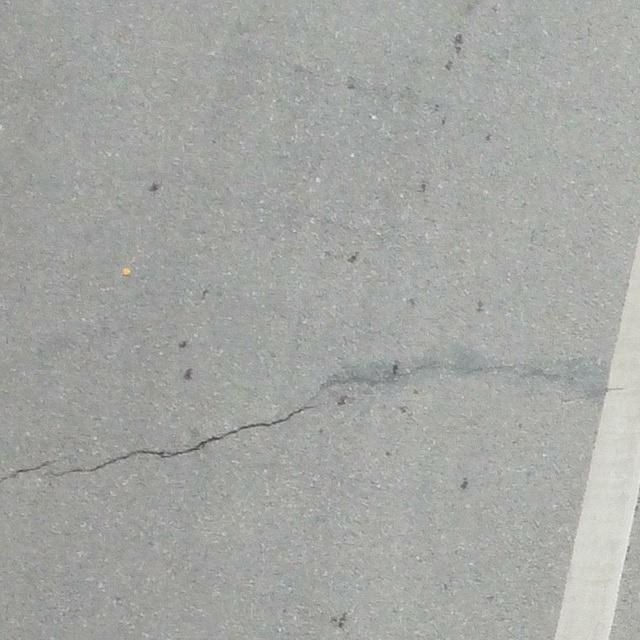TransverseCrack: (1, 403, 314, 482)
